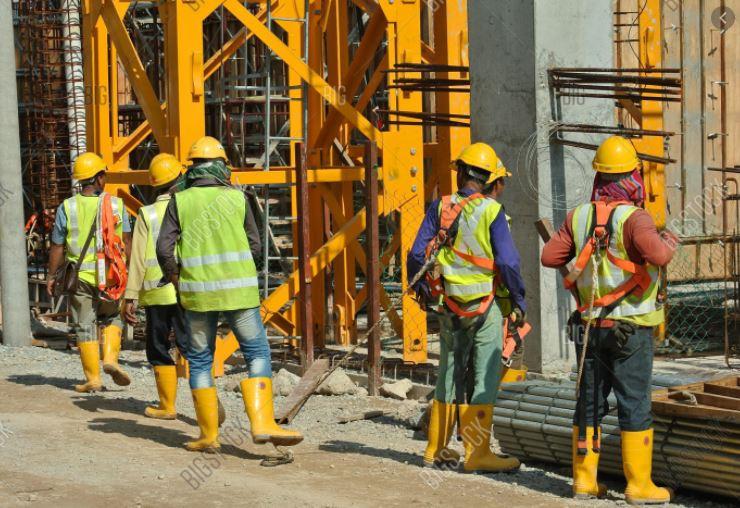Safety Helmet: (581, 119, 654, 213), (441, 130, 500, 204), (55, 139, 114, 204), (137, 143, 188, 201), (183, 133, 235, 185)
